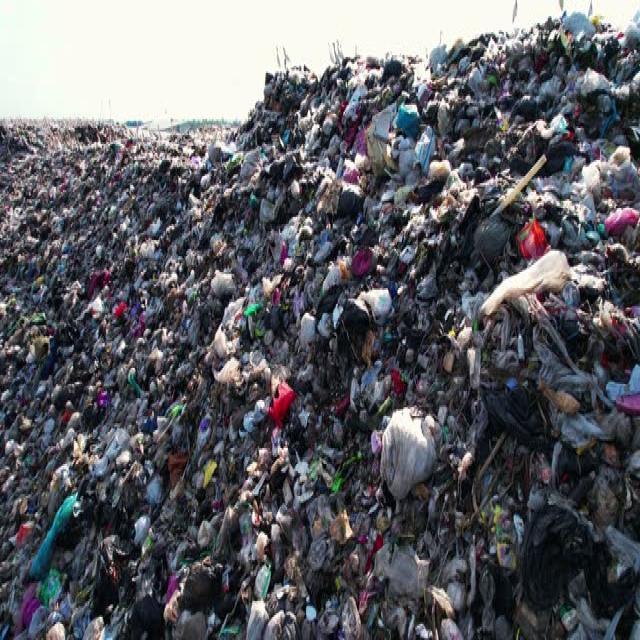plastic: (29, 188, 565, 614)
